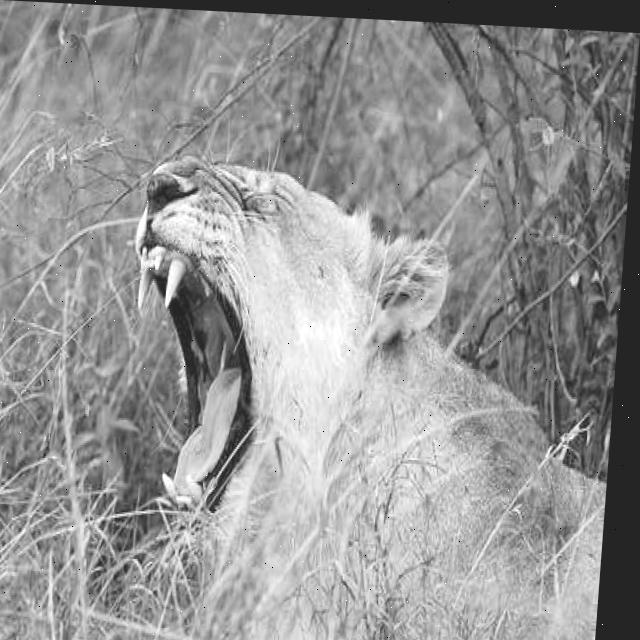Lion: (68, 104, 425, 572)
